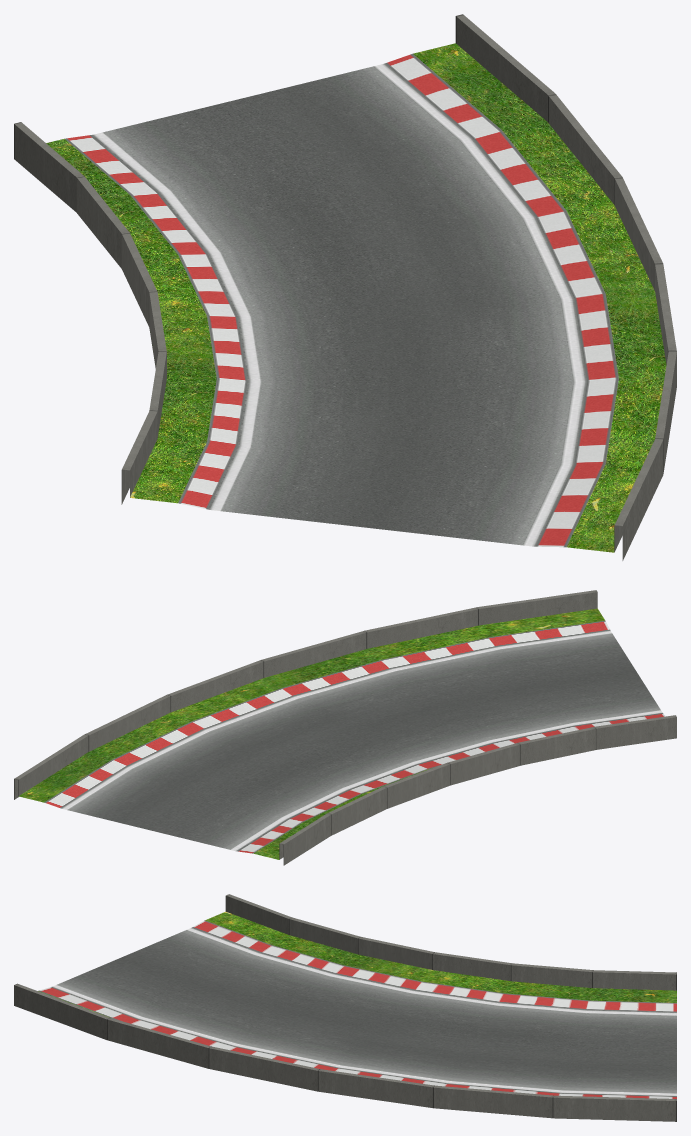
Rendered from turn_small_mid.fbx.
3 renders of one model, top to bottom at view 1: azimuth 30°, elevation 25°; view 2: azimuth 150°, elevation 25°; view 3: azimuth 270°, elevation 25°, orthographic. The views are drawn at different scales.
Visible parts, largest first — view 1: 7; view 2: 7; view 3: 7.
Boxes of the visible parts, bbox=[...] form: 7: bbox=[14, 14, 676, 560]; 7: bbox=[14, 590, 676, 865]; 7: bbox=[14, 894, 676, 1121].
Bounding box in the file's own units: 285 × 13.34 × 386.
